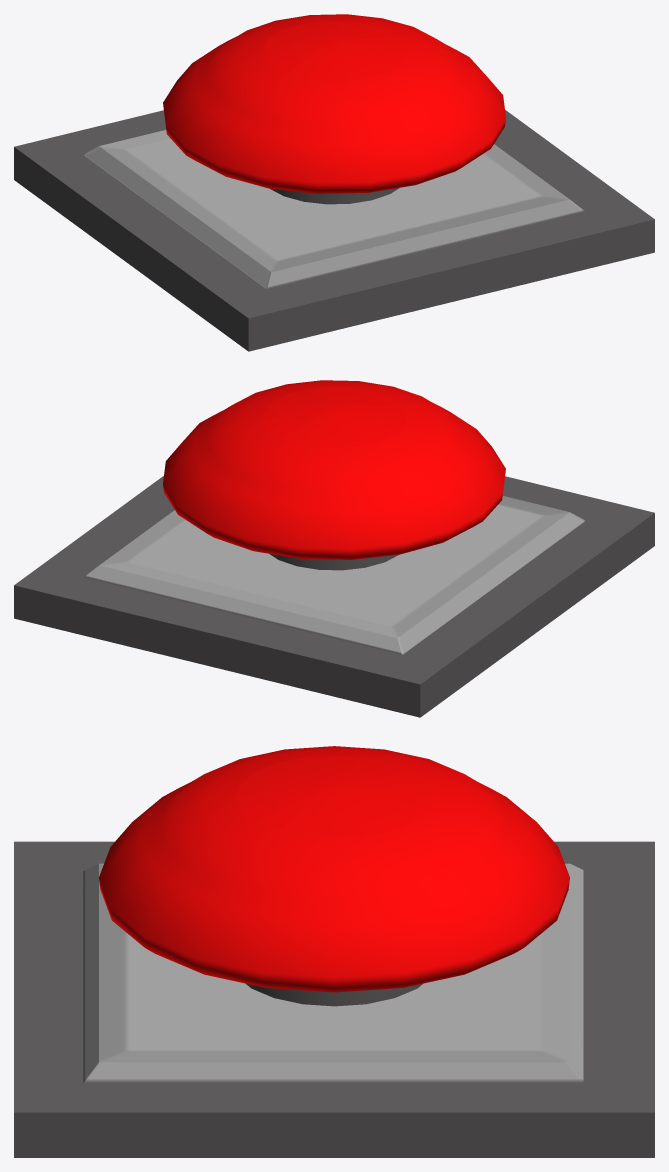
File: Switch.fbx
3 renders of one model, top to bottom at view 1: azimuth 30°, elevation 25°; view 2: azimuth 150°, elevation 25°; view 3: azimuth 270°, elevation 25°, orthographic. The views are drawn at different scales.
Parts seen in each view (by area): view 1: pasted__polySurface1; view 2: pasted__polySurface1; view 3: pasted__polySurface1.
Boxes of the visible parts, <box> form: pasted__polySurface1: <box>14,14,654,351</box>; pasted__polySurface1: <box>14,380,654,717</box>; pasted__polySurface1: <box>14,746,654,1157</box>.
Size of the model in its own units: 4.88 by 1.98 by 4.88.
